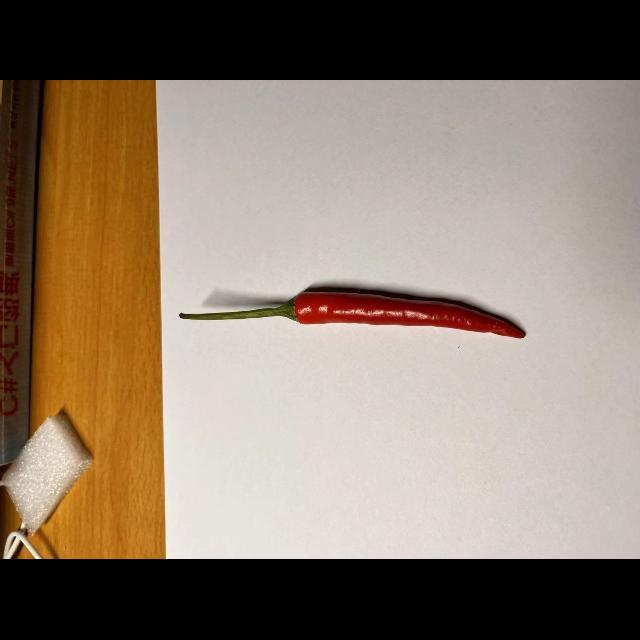chili_pepper: (174, 262, 530, 348)
